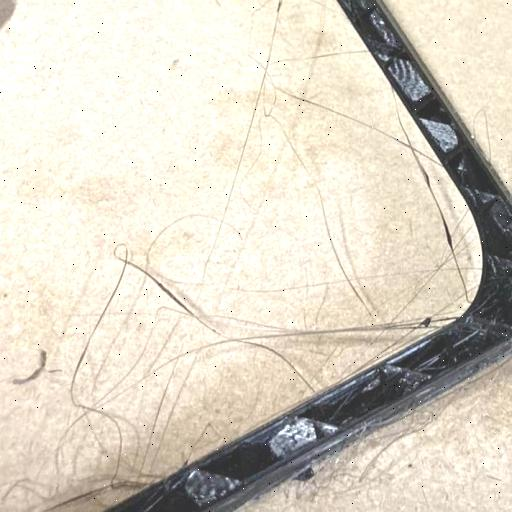stringing: (68, 269, 210, 473), (228, 299, 452, 351)
